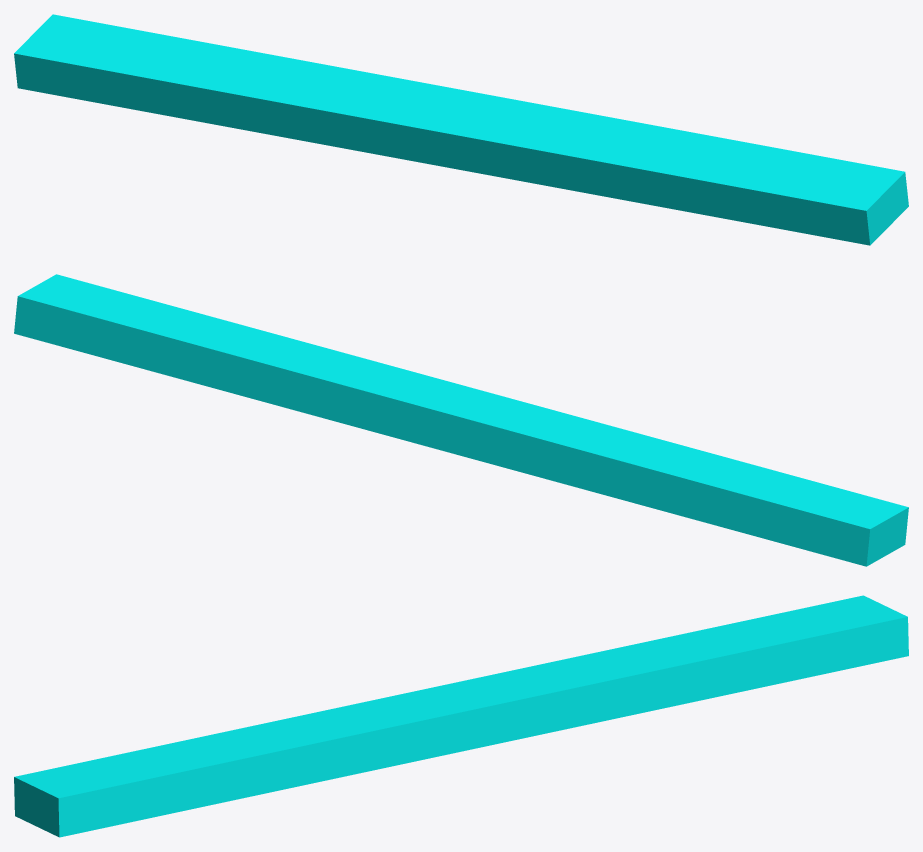
File: Blade_Counterclockwise_Collider.fbx
3 views of the same model, one above another, from view 1: azimuth 30°, elevation 25°; view 2: azimuth 210°, elevation 25°; view 3: azimuth 270°, elevation 25° (orthographic). The views are drawn at different scales.
Parts seen in each view (by area): view 1: Blade_Counterclockwise_Collider; view 2: Blade_Counterclockwise_Collider; view 3: Blade_Counterclockwise_Collider.
Part boxes in pixels (left/top/right/bottom): Blade_Counterclockwise_Collider: left=14, top=14, right=908, bottom=245; Blade_Counterclockwise_Collider: left=14, top=274, right=908, bottom=566; Blade_Counterclockwise_Collider: left=14, top=595, right=908, bottom=837.
Bounding box in the file's own units: 23.82 × 3.73 × 35.65.
